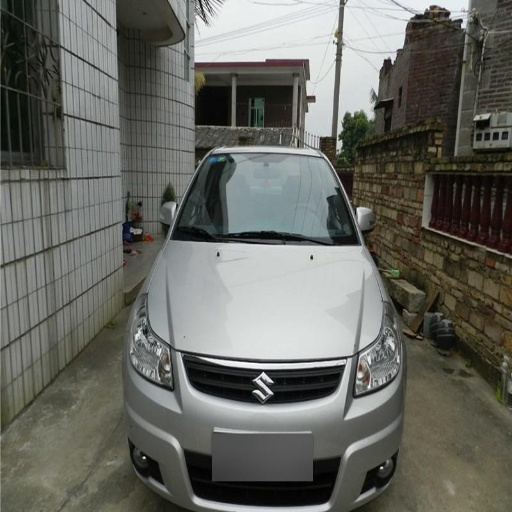front_bumper: (127, 349, 401, 511)
front_right_light: (129, 303, 175, 390)
hood: (152, 239, 381, 360)
